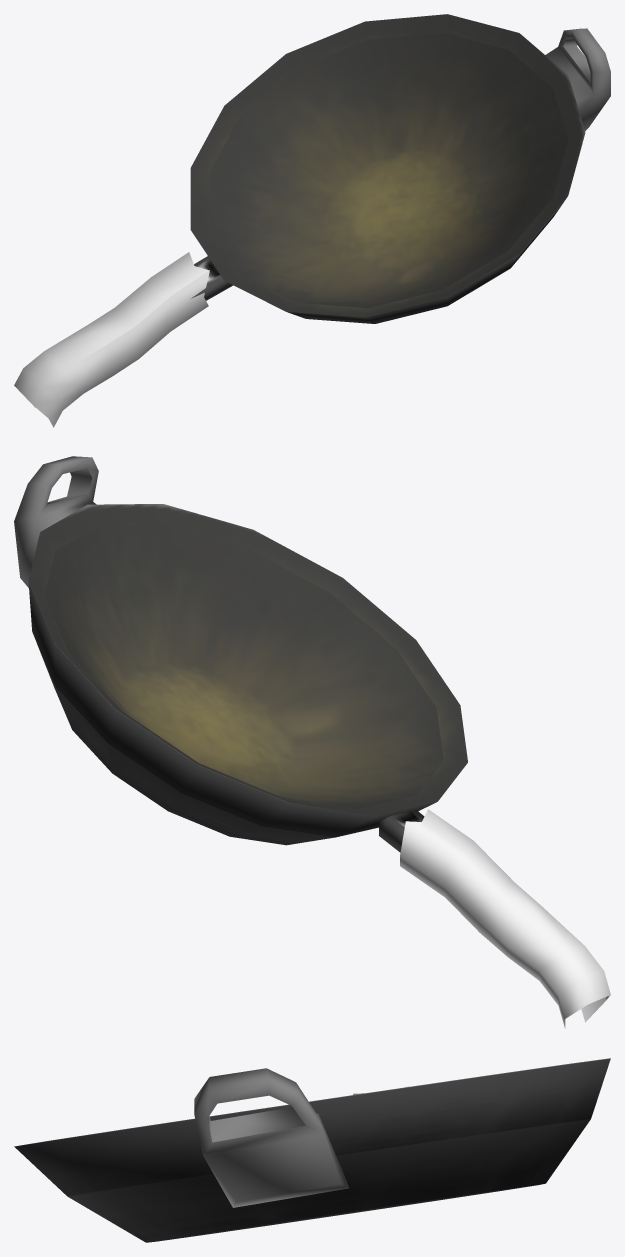
The model's file is C_DevWokpan.fbx.
3 renders of one model, top to bottom at view 1: azimuth 30°, elevation 25°; view 2: azimuth 150°, elevation 25°; view 3: azimuth 270°, elevation 25°, orthographic. The views are drawn at different scales.
Visible parts, largest first — view 1: FriedEgg.001; view 2: FriedEgg.001; view 3: FriedEgg.001.
Boxes of the visible parts, x1=… form: FriedEgg.001: x1=14, y1=14, x2=610, y2=427; FriedEgg.001: x1=14, y1=456, x2=610, y2=1028; FriedEgg.001: x1=14, y1=1058, x2=610, y2=1242.
Bounding box in the file's own units: 79.26 × 46.07 × 56.09.
